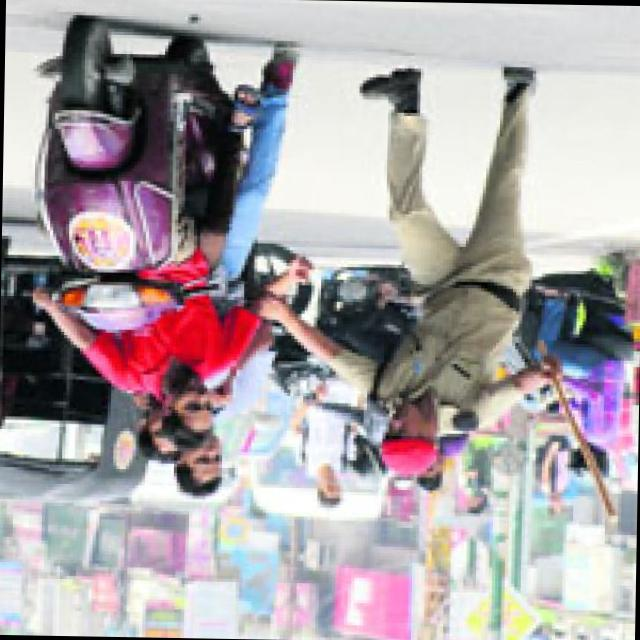bareface: (164, 375, 217, 442), (176, 432, 228, 499)
